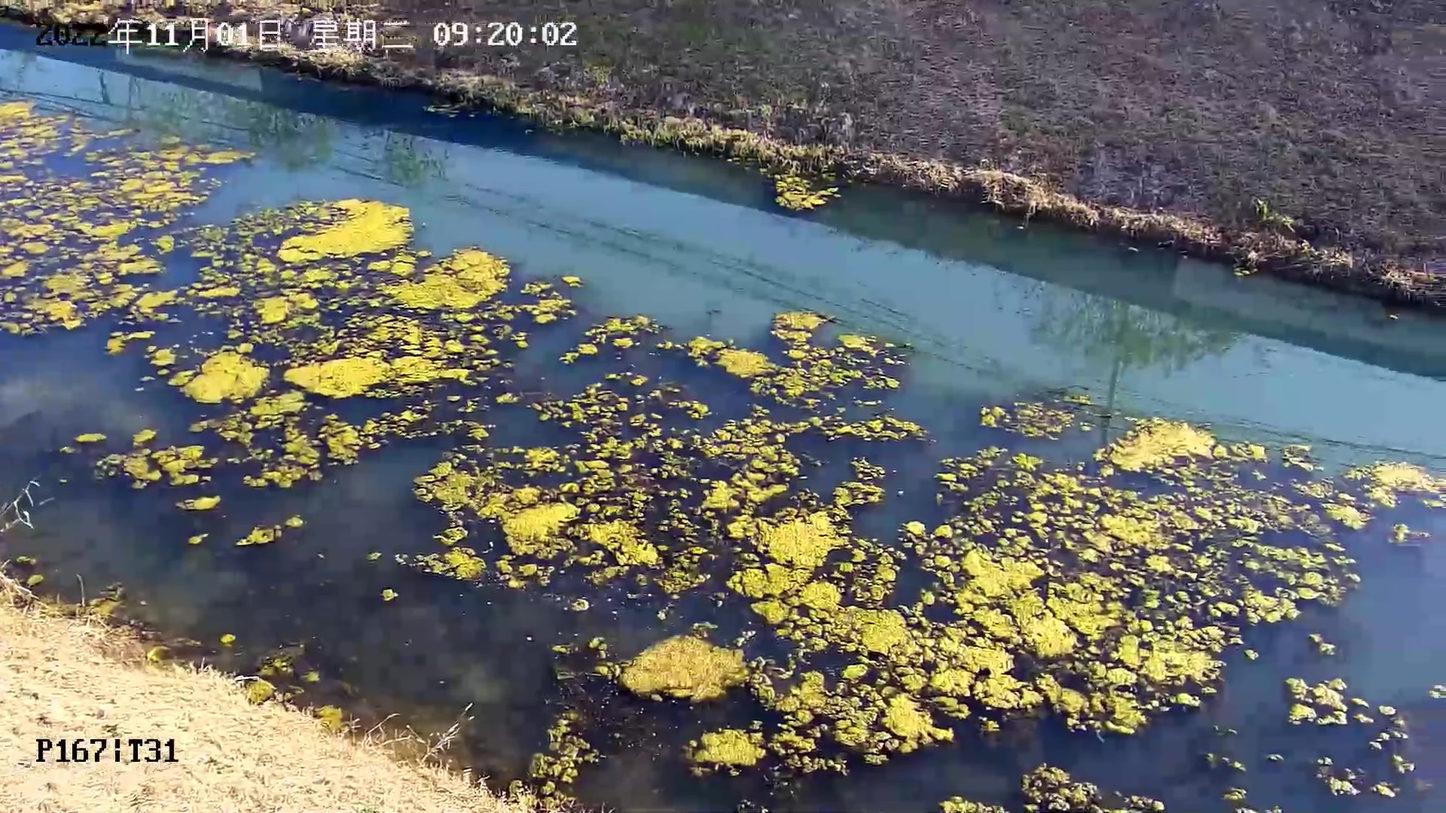floater: (415, 304, 945, 762), (946, 370, 1446, 806), (63, 199, 585, 519), (2, 100, 256, 342), (770, 167, 847, 215)
